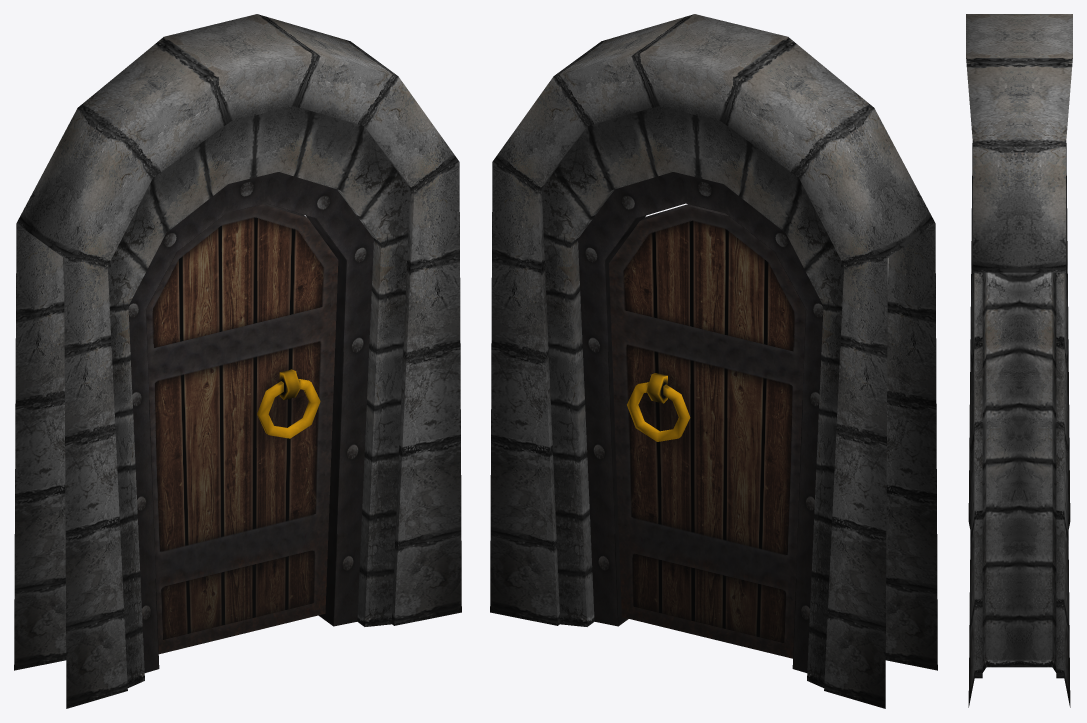
File: doorway.obj
3 views of the same model, side by side, from view 1: azimuth 30°, elevation 25°; view 2: azimuth 150°, elevation 25°; view 3: azimuth 270°, elevation 25° (orthographic). The views are drawn at different scales.
Visible parts, largest first — view 1: Grim_Bear_Doorway; view 2: Grim_Bear_Doorway; view 3: Grim_Bear_Doorway.
Part boxes in pixels (bbox=[...]): Grim_Bear_Doorway: bbox=[14, 14, 461, 708]; Grim_Bear_Doorway: bbox=[490, 14, 937, 708]; Grim_Bear_Doorway: bbox=[966, 14, 1072, 707].
Bounding box in the file's own units: 202 × 291 × 48.63.
2 materials, 2 textured.
